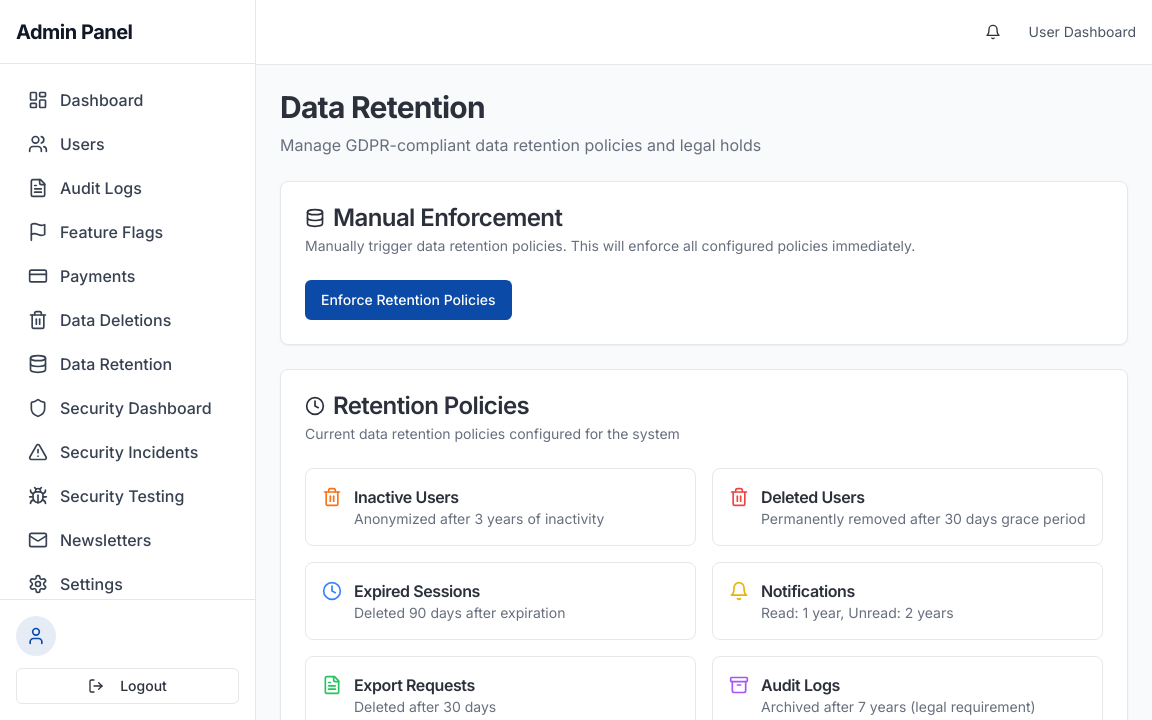
Test: AdminDataRetention › should show loading state during enforcement
Click the button "Enforce Retention Policies" at (408, 300), box [305,280,512,320]
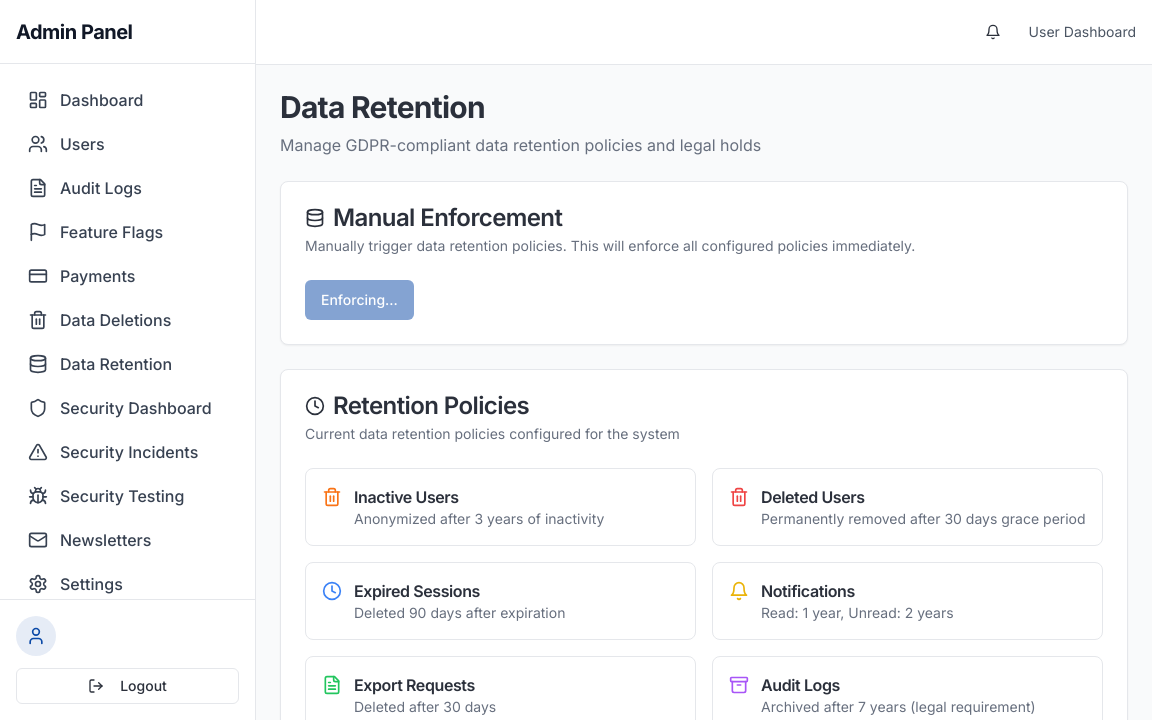
Expected: the button named "enforce retention policies" is disabled, [305,280,414,320]
